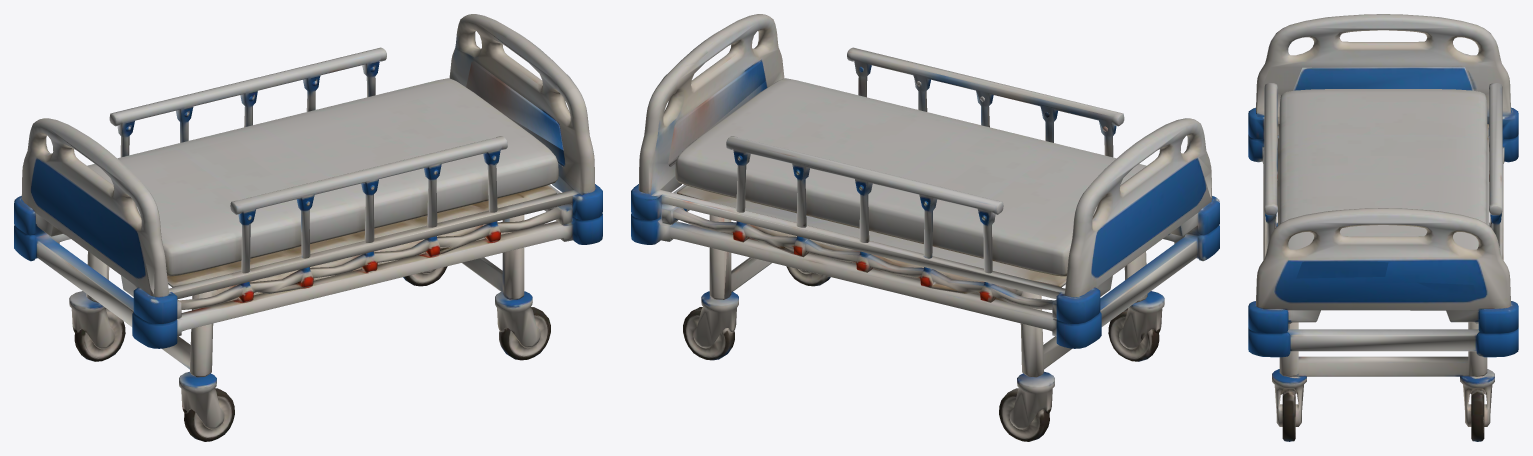
File: a_hospital_gurney_536b823b_v4.glb
3 views of the same model, side by side, from view 1: azimuth 30°, elevation 25°; view 2: azimuth 150°, elevation 25°; view 3: azimuth 270°, elevation 25° (orthographic). The views are drawn at different scales.
Visible parts, largest first — view 1: material; view 2: material; view 3: material.
Boxes of the visible parts, box(x1,y1,x2,y2) form: material: box(14, 14, 602, 441); material: box(631, 14, 1219, 441); material: box(1248, 14, 1518, 441).
Size of the model in its own units: 1.9 by 1.08 by 1.04.
Materials: 1 (1 with a texture image).
